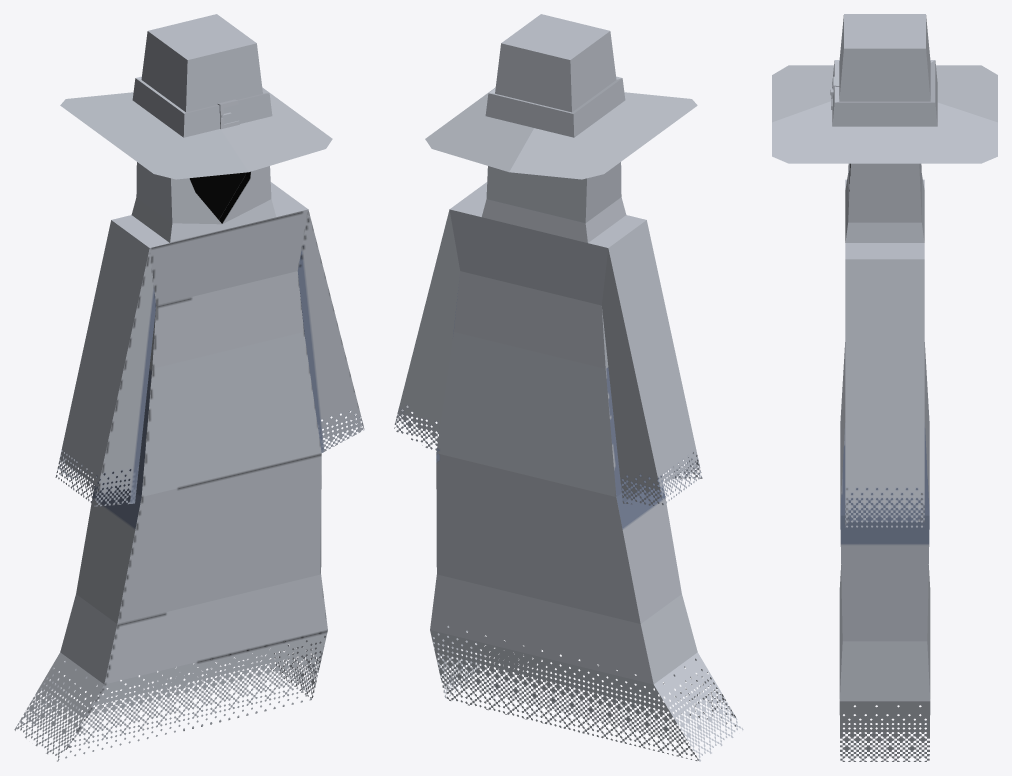
Rendered from ghost.fbx.
3 views of the same model, side by side, from view 1: azimuth 30°, elevation 25°; view 2: azimuth 150°, elevation 25°; view 3: azimuth 270°, elevation 25° (orthographic). The views are drawn at different scales.
Parts seen in each view (by area): view 1: ghost, hat; view 2: ghost, hat; view 3: ghost, hat.
Boxes of the visible parts, box(x1,y1,x2,y2) form: ghost: box(14, 162, 364, 761); hat: box(60, 14, 332, 179); ghost: box(394, 162, 743, 761); hat: box(425, 14, 697, 179); ghost: box(839, 163, 930, 761); hat: box(772, 14, 997, 163).
Bounding box in the file's own units: 206 × 426 × 127.
1 material, 1 textured.
